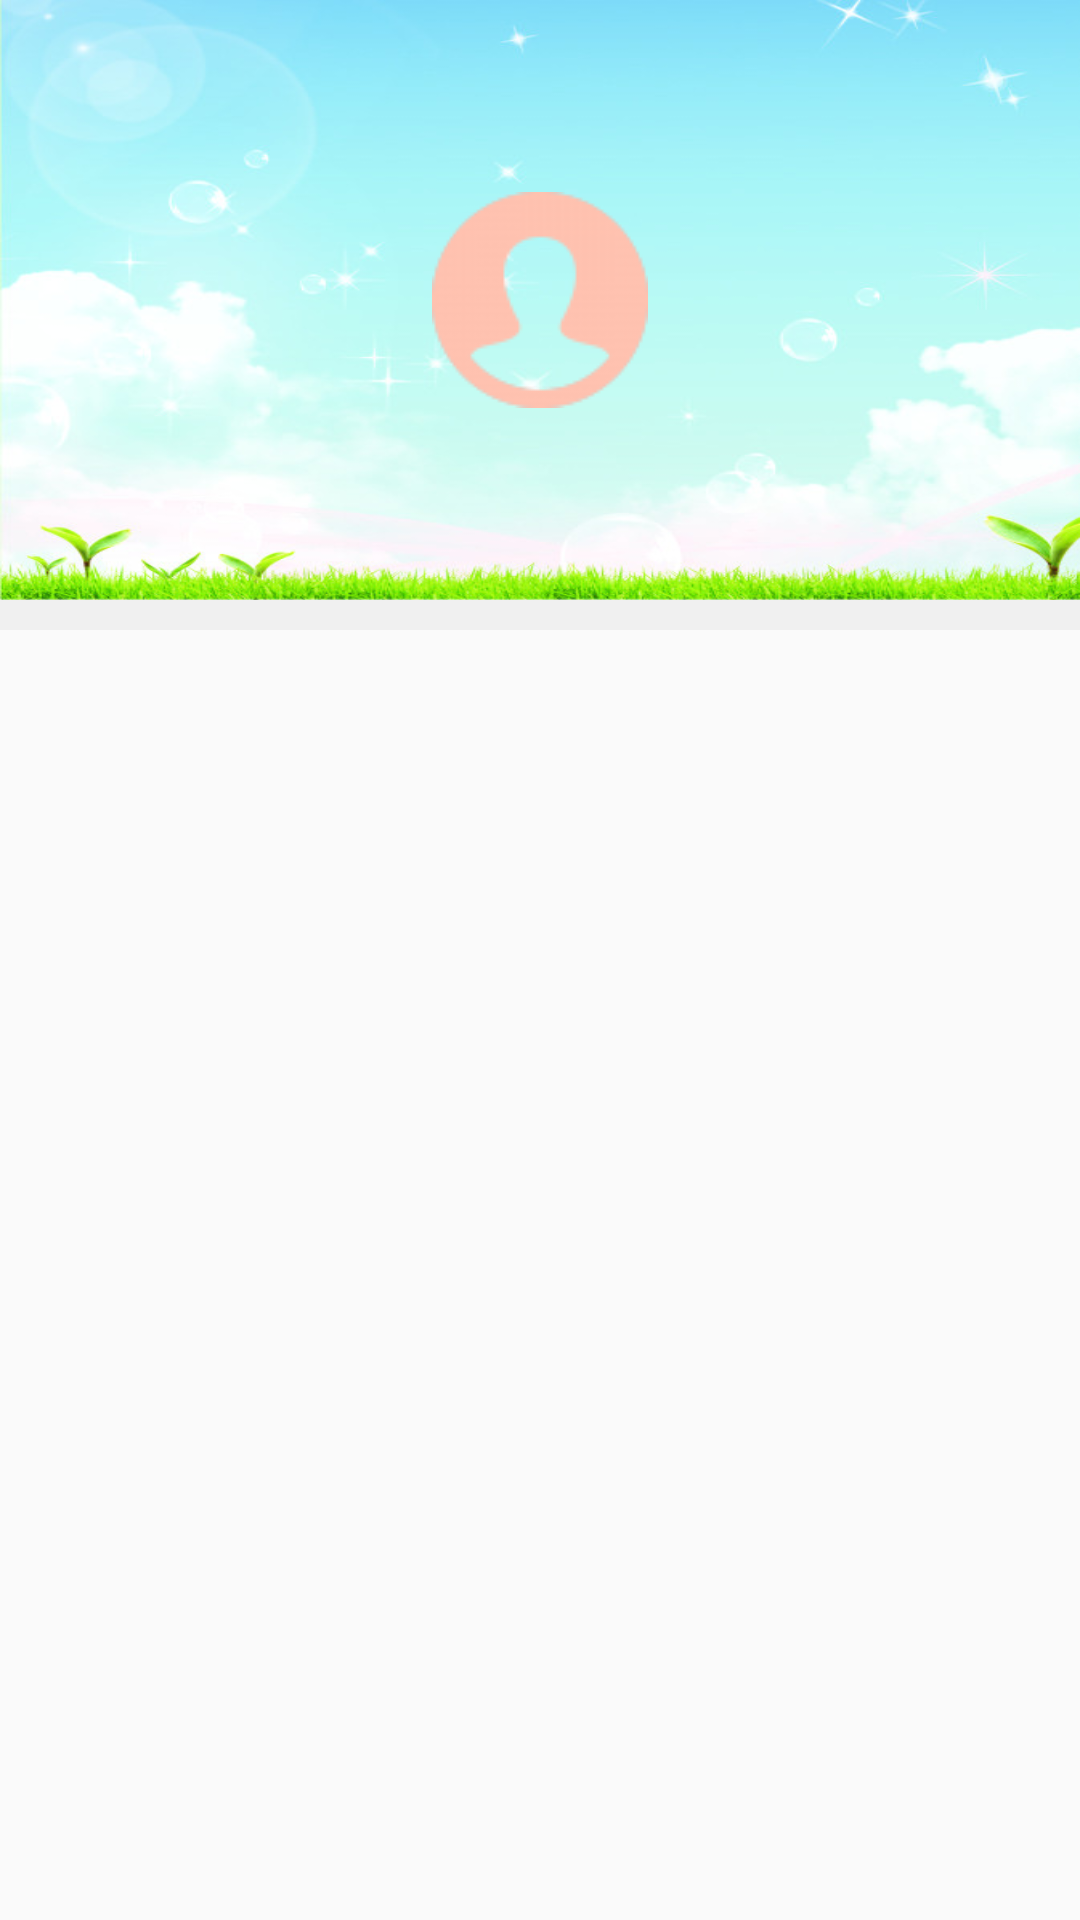

Screen size 1080px×1920px. Icon name, then its center in pixels as [x,y]:
peopleicon: [540,300]
